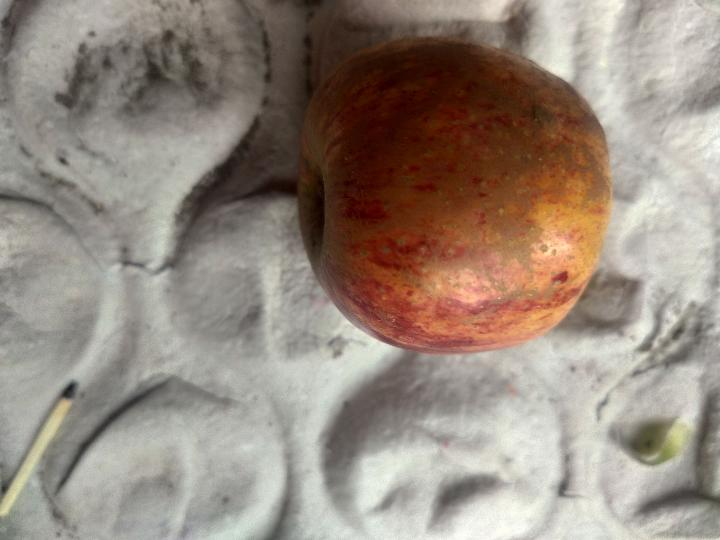apple: (298, 37, 611, 352)
surface_damage: (353, 44, 610, 329), (319, 213, 401, 330), (557, 80, 608, 156)
